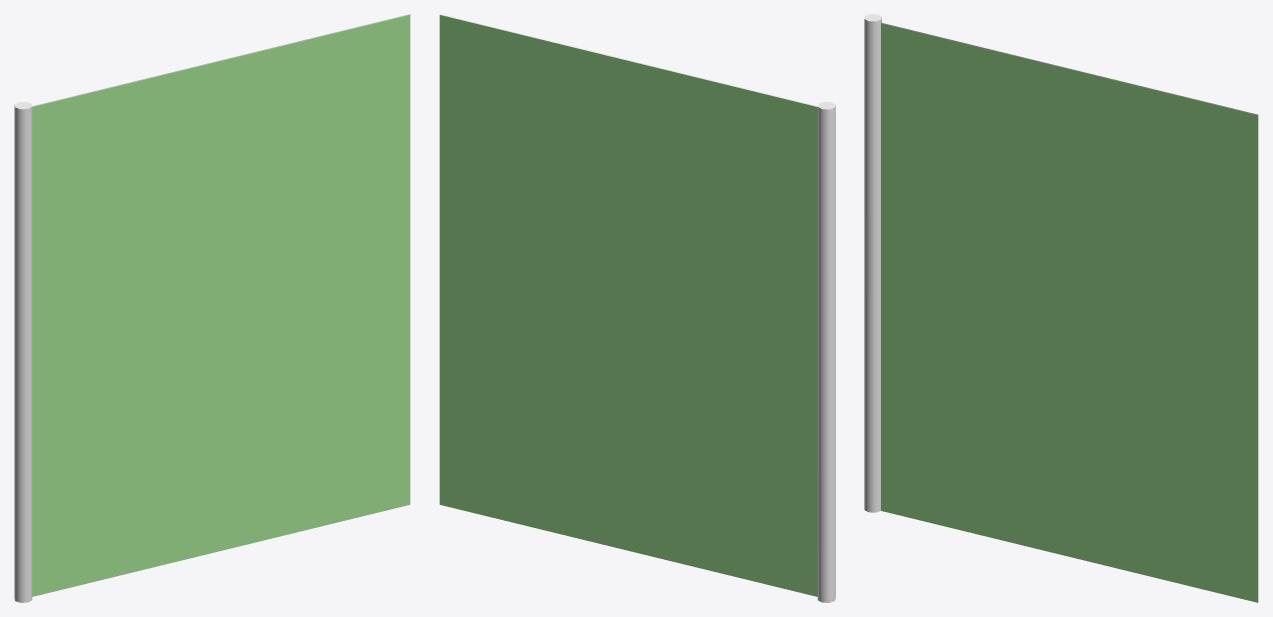
Rendered from ENV_URB_Grillage.fbx.
3 renders of one model, left to right at view 1: azimuth 30°, elevation 25°; view 2: azimuth 150°, elevation 25°; view 3: azimuth 330°, elevation 25°, orthographic.
Visible parts, largest first — view 1: Cylinder003; view 2: Cylinder003; view 3: Cylinder003.
Part boxes in pixels (x1=…): Cylinder003: x1=14, y1=14, x2=410, y2=602; Cylinder003: x1=439, y1=14, x2=835, y2=602; Cylinder003: x1=864, y1=14, x2=1258, y2=602.
Bounding box in the file's own units: 349 × 417 × 14.21.
